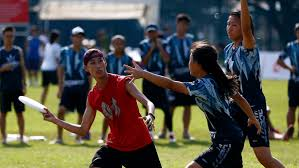disc: (17, 94, 50, 113)
